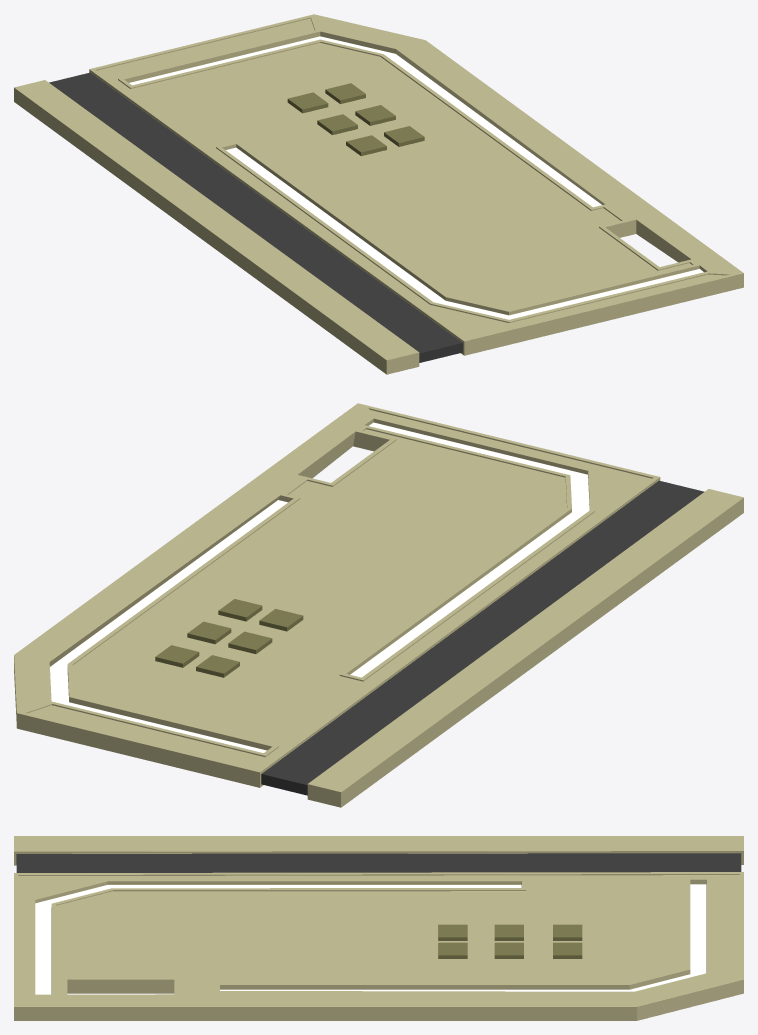
Rendered from keycard.fbx.
The picture shows the model from 3 angles, top to bottom: view 1: azimuth 30°, elevation 25°; view 2: azimuth 150°, elevation 25°; view 3: azimuth 270°, elevation 25°; orthographic projection. The views are drawn at different scales.
Parts seen in each view (by area): view 1: keycard; view 2: keycard; view 3: keycard.
Part boxes in pixels (x1,y1,x2,y2): keycard: [14, 14, 743, 374]; keycard: [14, 403, 743, 807]; keycard: [14, 836, 743, 1020].
Size of the model in its own units: 31.37 by 1.43 by 56.68.
